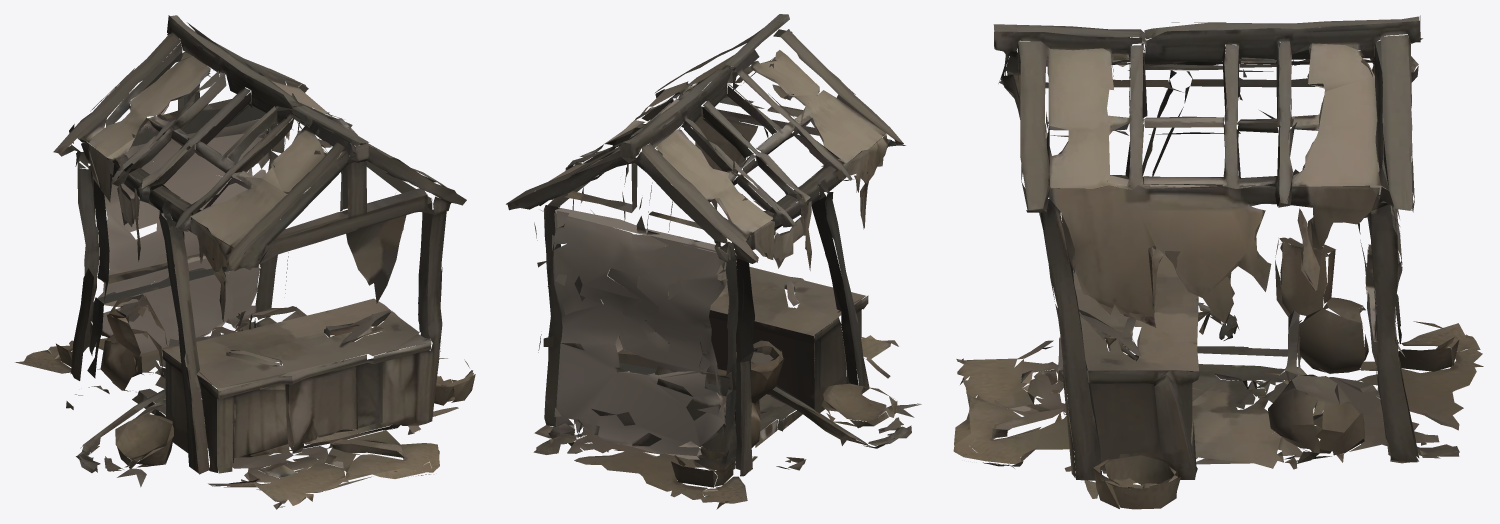
Rendered from brokenStall.glb.
3 renders of one model, left to right at view 1: azimuth 30°, elevation 25°; view 2: azimuth 150°, elevation 25°; view 3: azimuth 270°, elevation 25°, orthographic. The views are drawn at different scales.
Parts seen in each view (by area): view 1: Prop_brokenStall; view 2: Prop_brokenStall; view 3: Prop_brokenStall.
Part boxes in pixels (x1=…): Prop_brokenStall: x1=15, y1=15, x2=475, y2=509; Prop_brokenStall: x1=506, y1=14, x2=921, y2=509; Prop_brokenStall: x1=953, y1=15, x2=1483, y2=509.
Size of the model in its own units: 3.22 by 2.83 by 3.37.
1 material, 1 textured.
